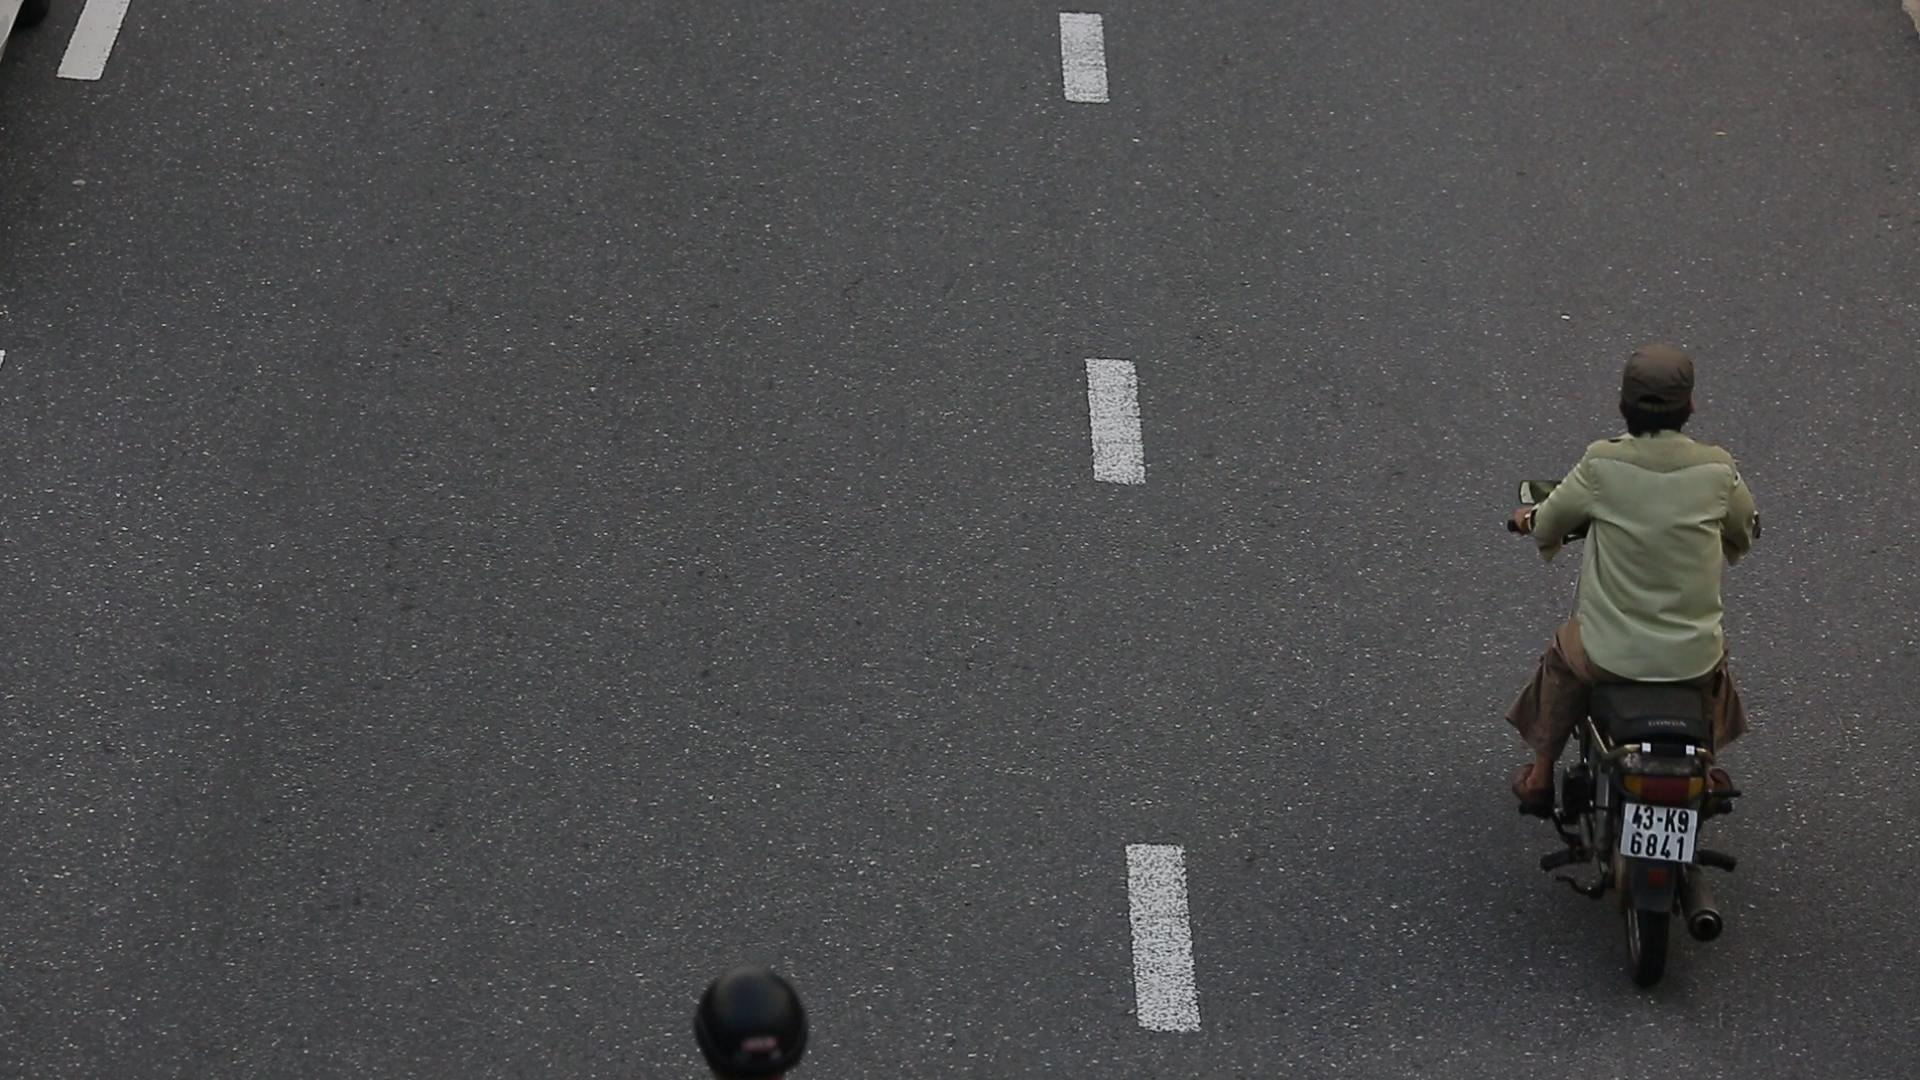motobike: (1507, 327, 1768, 1004)
